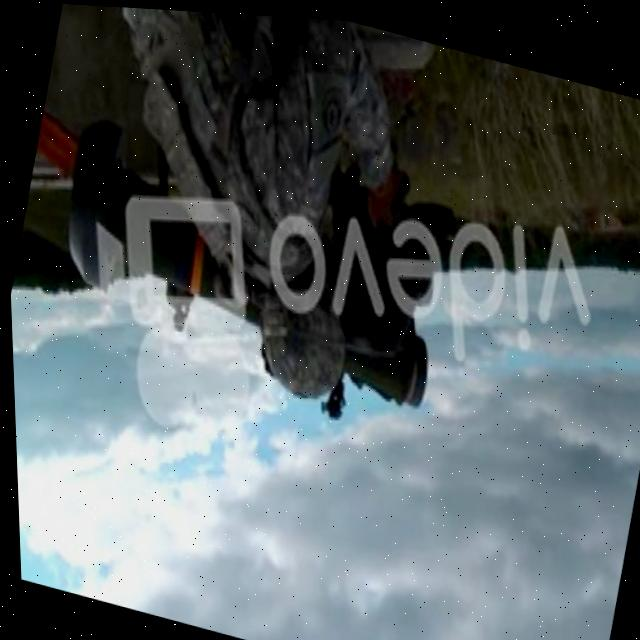rocket: (5, 44, 475, 482)
